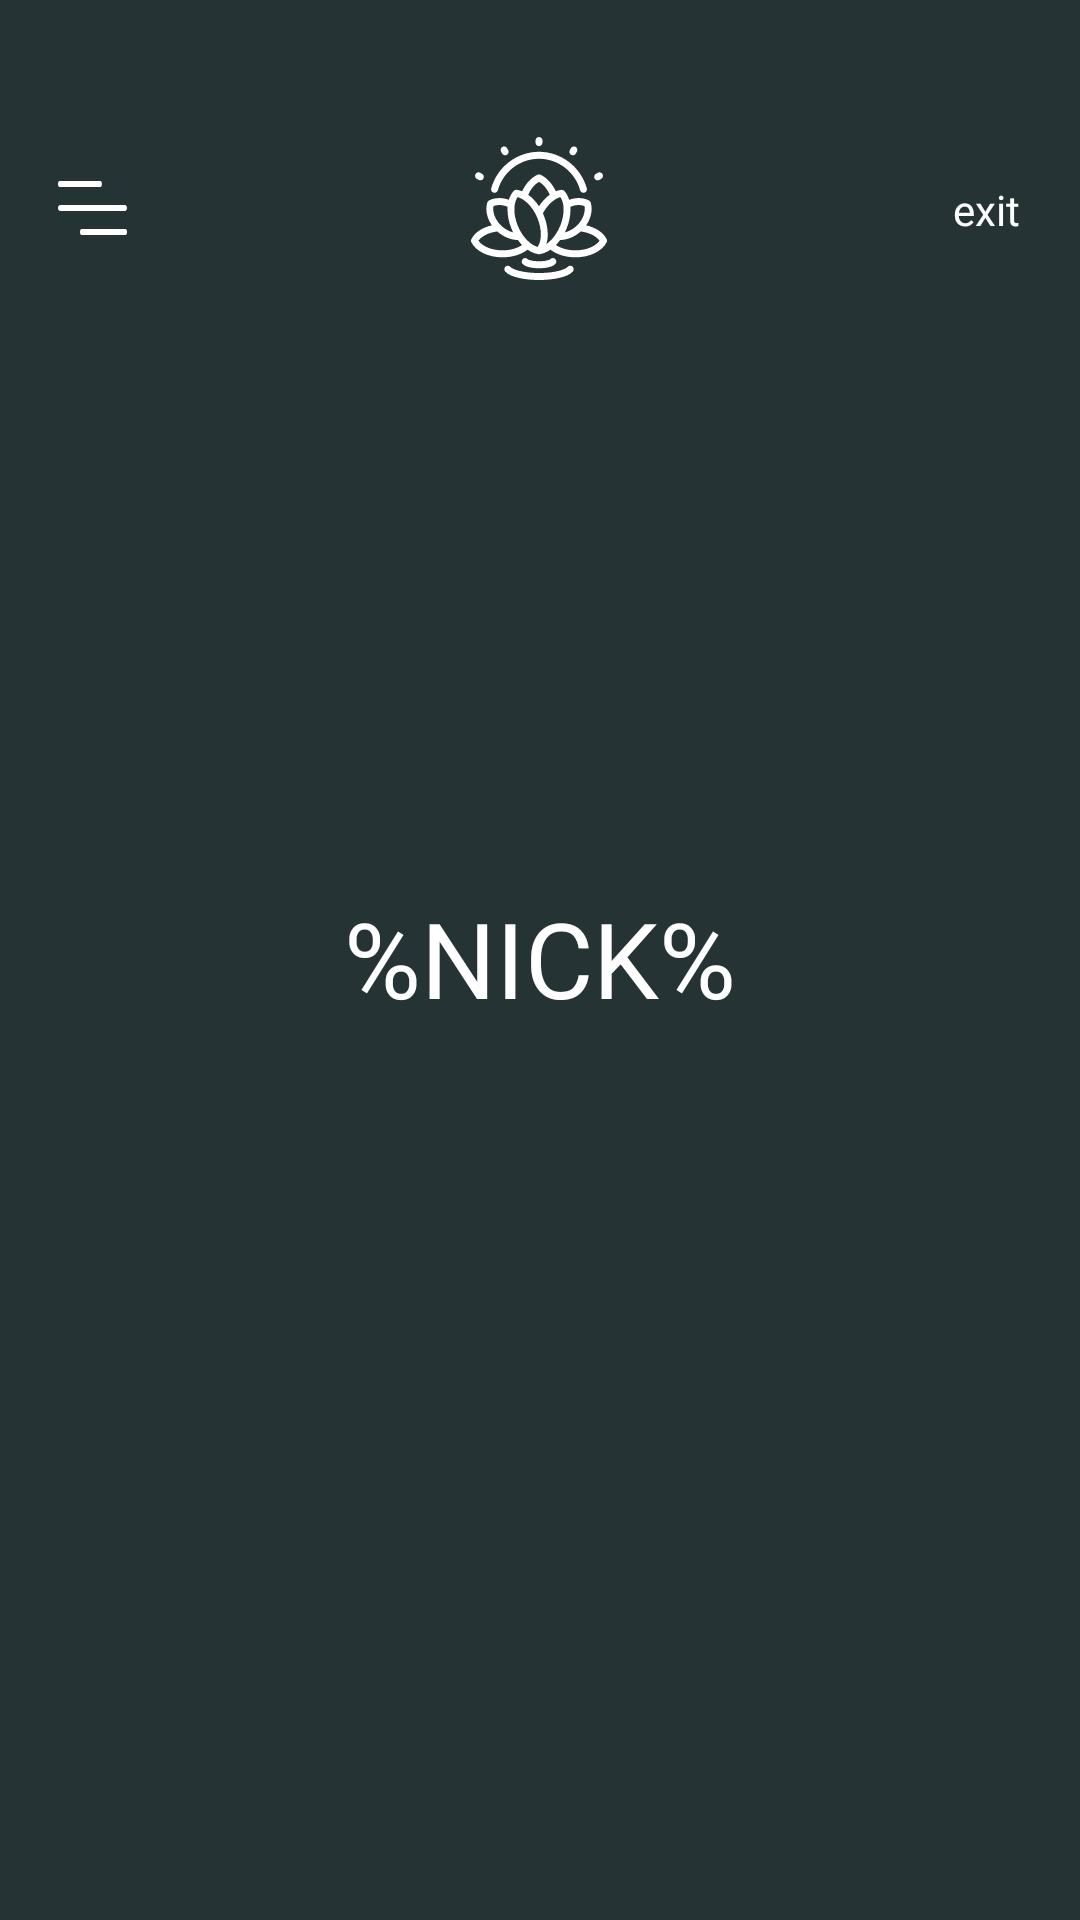

Screen size 1080×1920. Icon name, then its box in pixels as (x1, y1, x2, y2):
hamburger: (58, 181, 127, 235)
